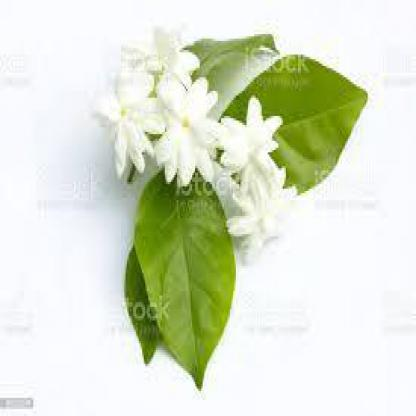Melati: (65, 15, 311, 285)
